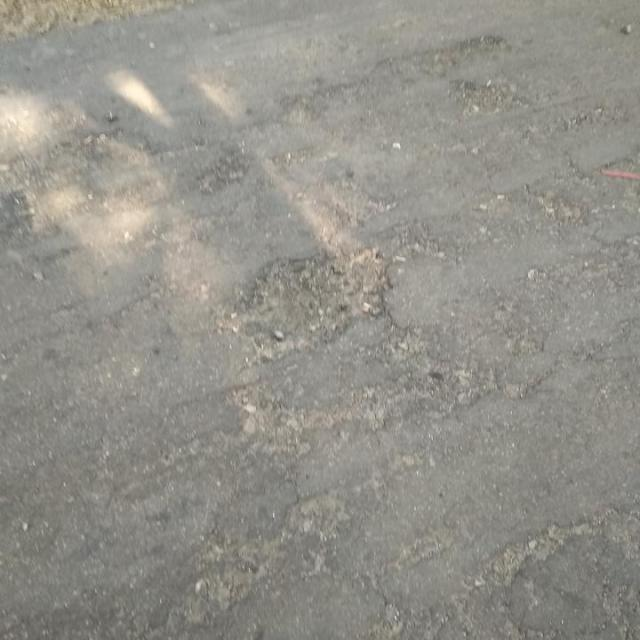pothole: (212, 238, 402, 362)
